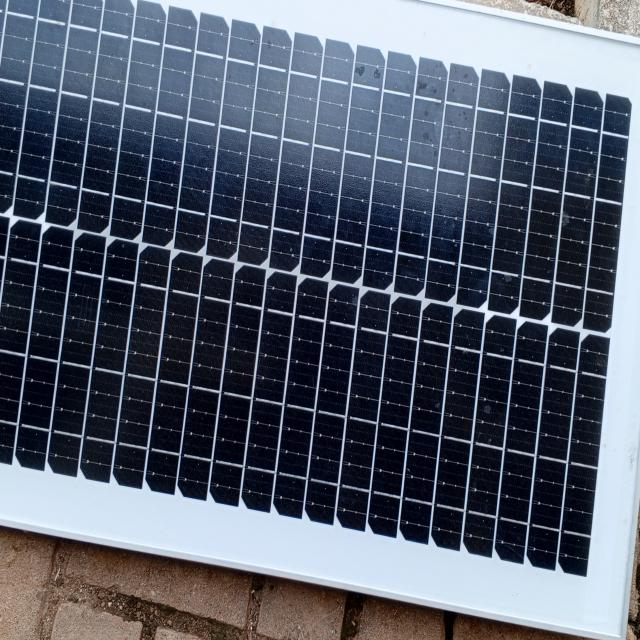Clean: (5, 2, 619, 523)
